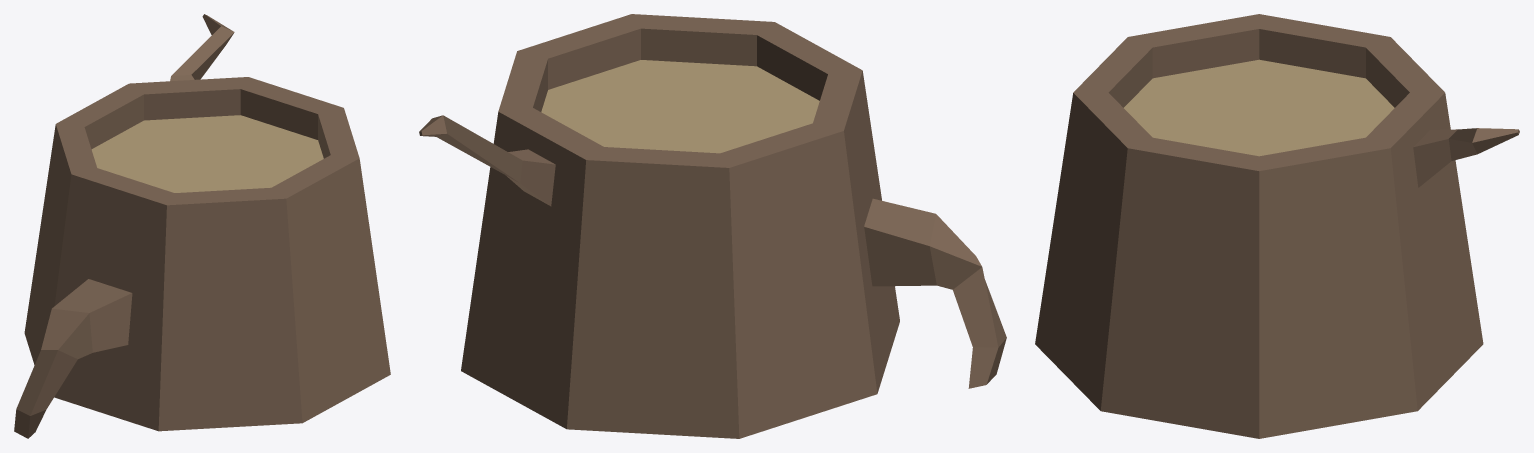
Rendered from Stump.fbx.
3 views of the same model, side by side, from view 1: azimuth 30°, elevation 25°; view 2: azimuth 150°, elevation 25°; view 3: azimuth 270°, elevation 25° (orthographic). The views are drawn at different scales.
Parts seen in each view (by area): view 1: pCube3; view 2: pCube3; view 3: pCube3.
Boxes of the visible parts, <box> form: pCube3: <box>14,14,390,438</box>; pCube3: <box>419,14,1006,438</box>; pCube3: <box>1035,14,1519,438</box>.
Bounding box in the file's own units: 4.21 × 2.41 × 3.81.
